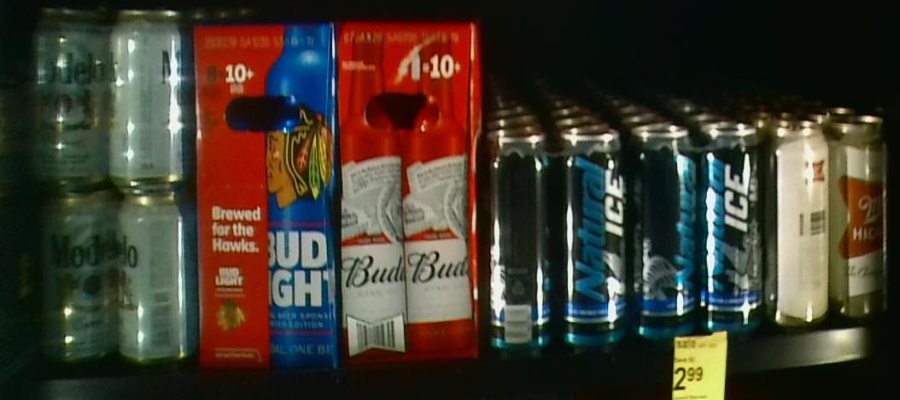bottle: (22, 6, 195, 368), (196, 20, 338, 368), (341, 20, 481, 368), (489, 134, 629, 350), (633, 130, 759, 340), (760, 122, 883, 328)
